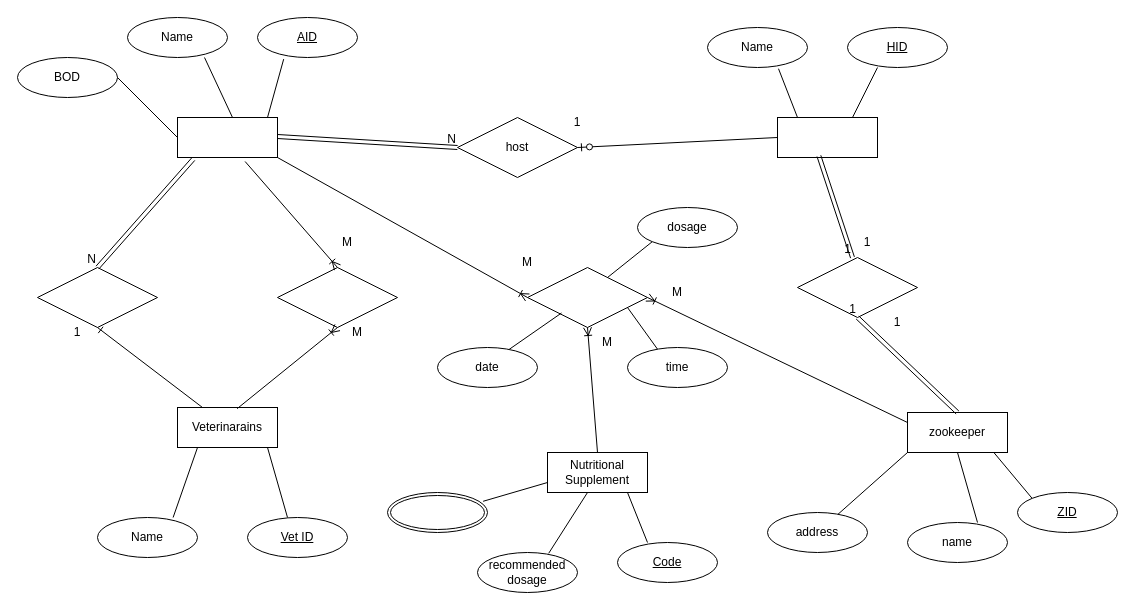
The diagram is 1135 pixels wide and 610 high, and some of its shapes have lost their labels. Here are the shapes that lost their labels. From the top down, the centre of each, then its label:
At (227,137): "Animals".
At (827,137): "Habitats".
At (97,297): "assing to".
At (337,297): "examines".
At (587,297): "gives".
At (857,287): "supervises".
At (437,512): "brand name".
